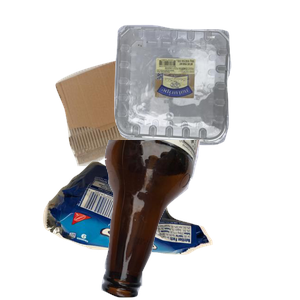cardboard: (53, 45, 221, 204)
glass: (99, 140, 300, 300)
plastic: (112, 22, 300, 160)
trash: (40, 158, 245, 300)
